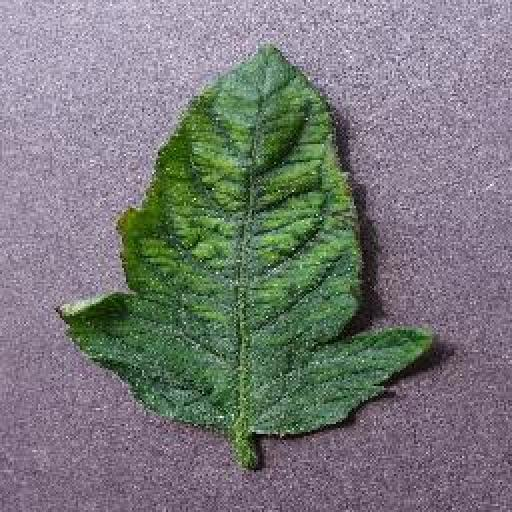Mosaic Virus: (54, 43, 438, 436)
